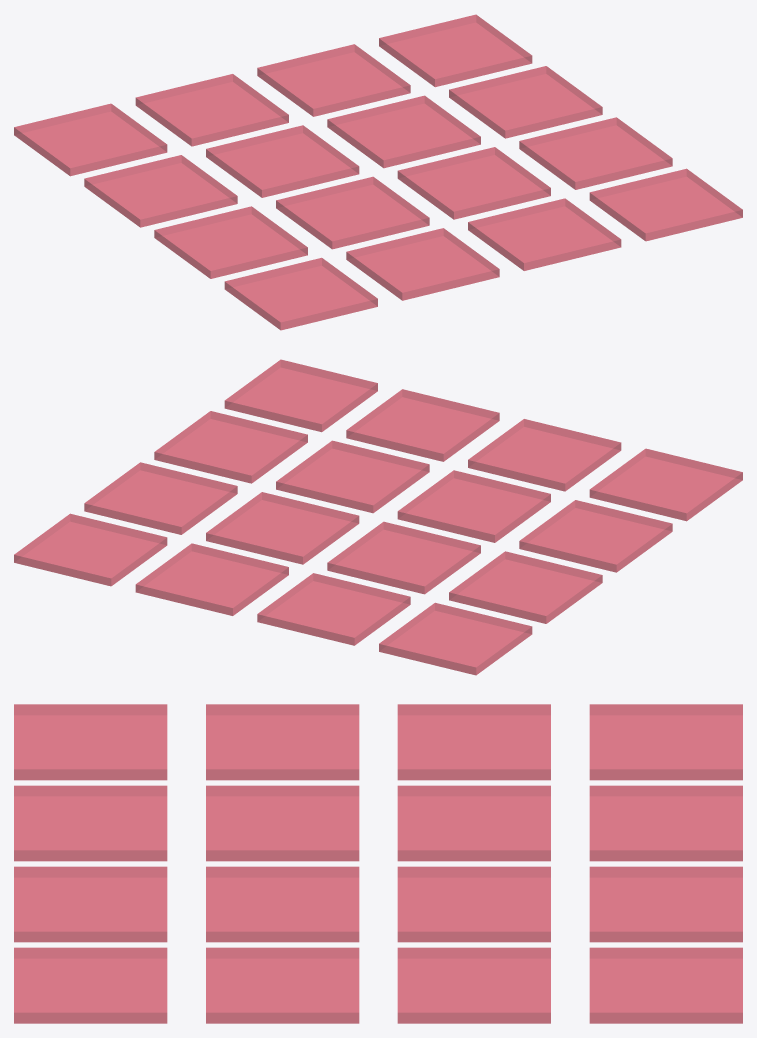
File: battleground R2.glb
3 renders of one model, top to bottom at view 1: azimuth 30°, elevation 25°; view 2: azimuth 150°, elevation 25°; view 3: azimuth 270°, elevation 25°, orthographic. The views are drawn at different scales.
Parts seen in each view (by area): view 1: Cube.005, Cube.012, Cube.002, Cube.001, Cube.006, Cube.007, Cube.010, Cube.011, Cube.015, Cube.016, Cube.003, Cube.008 (+4 smaller); view 2: Cube.008, Cube.009, Cube.003, Cube.004, Cube.006, Cube.007, Cube.010, Cube.011, Cube.013, Cube.014, Cube.001, Cube.005 (+4 smaller); view 3: Cube.002, Cube.004, Cube.005, Cube.008, Cube.009, Cube.012, Cube.013, Cube.016, Cube.001, Cube.003, Cube.006, Cube.007 (+4 smaller).
Part boxes in pixels (x1,y1,x2,y2): Cube.005: (154, 206, 307, 278); Cube.012: (449, 66, 602, 138); Cube.002: (224, 257, 377, 330); Cube.001: (346, 228, 499, 300); Cube.006: (276, 176, 429, 249); Cube.007: (397, 147, 550, 219); Cube.010: (206, 125, 359, 197); Cube.011: (327, 95, 480, 168); Cube.015: (257, 44, 410, 116); Cube.016: (379, 14, 532, 87); Cube.003: (468, 198, 621, 270); Cube.008: (519, 117, 672, 189); Cube.008: (154, 411, 307, 483); Cube.009: (449, 551, 602, 623); Cube.003: (346, 389, 499, 461); Cube.004: (224, 359, 377, 432); Cube.006: (397, 470, 550, 542); Cube.007: (276, 440, 429, 513); Cube.010: (327, 521, 480, 594); Cube.011: (206, 492, 359, 564); Cube.013: (379, 602, 532, 675); Cube.014: (257, 573, 410, 645); Cube.001: (468, 419, 621, 491); Cube.005: (519, 500, 672, 572); Cube.002: (14, 704, 167, 780); Cube.004: (14, 947, 167, 1023); Cube.005: (206, 704, 359, 780); Cube.008: (206, 947, 359, 1023); Cube.009: (397, 704, 550, 780); Cube.012: (397, 947, 550, 1023); Cube.013: (589, 704, 742, 780); Cube.016: (589, 947, 742, 1023); Cube.001: (14, 785, 167, 861); Cube.003: (14, 866, 167, 942); Cube.006: (206, 785, 359, 861); Cube.007: (206, 866, 359, 942).
Size of the model in its own units: 9.5 by 0.1572 by 9.5.
